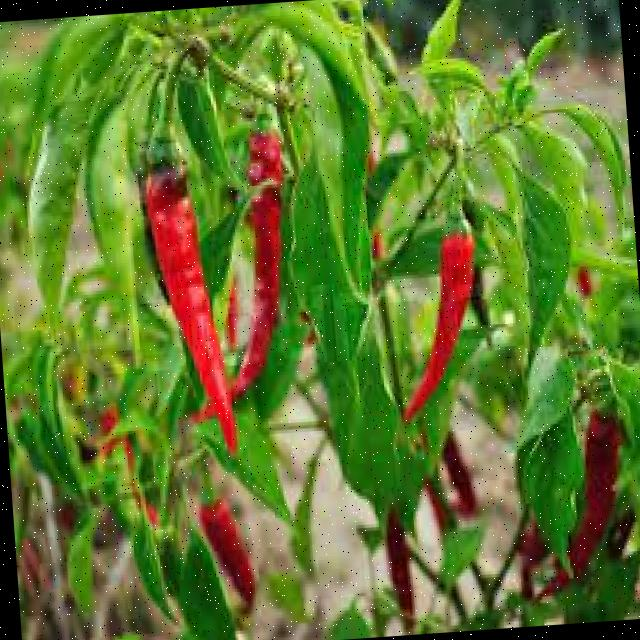chili: (145, 166, 234, 451), (231, 126, 281, 396), (403, 232, 474, 420), (568, 411, 622, 577)
